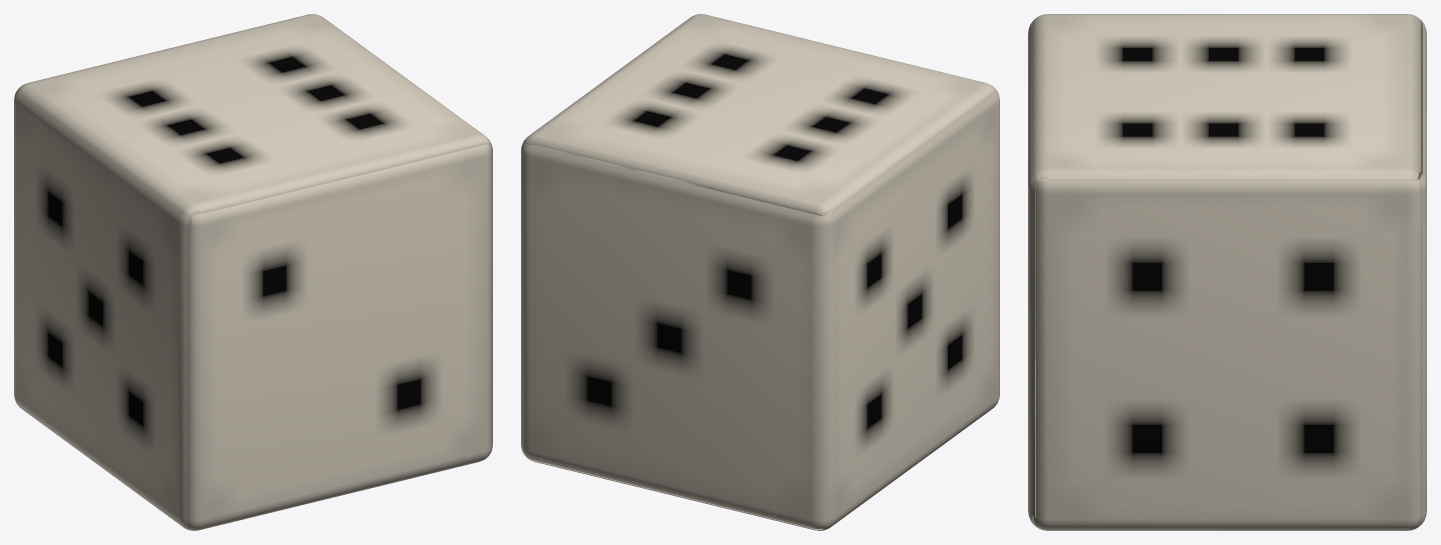
Rendered from dice.fbx.
3 renders of one model, left to right at view 1: azimuth 30°, elevation 25°; view 2: azimuth 150°, elevation 25°; view 3: azimuth 270°, elevation 25°, orthographic. The views are drawn at different scales.
Visible parts, largest first — view 1: Dice; view 2: Dice; view 3: Dice.
Part boxes in pixels (box(x1,y1,x2,y2)): Dice: box(14, 14, 492, 530); Dice: box(521, 14, 999, 530); Dice: box(1028, 14, 1426, 530).
Size of the model in its own units: 200 by 200 by 200.
